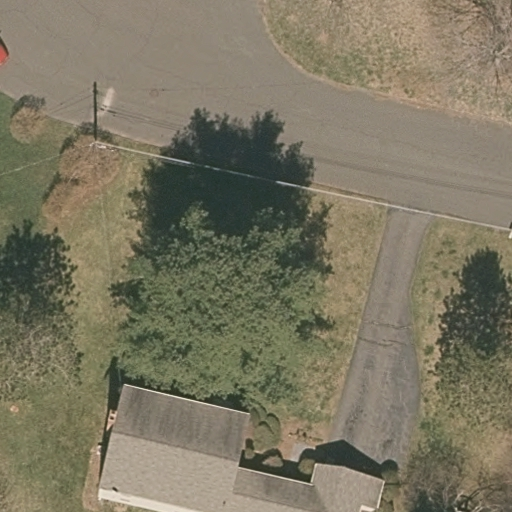DT: (84, 134, 110, 156)
